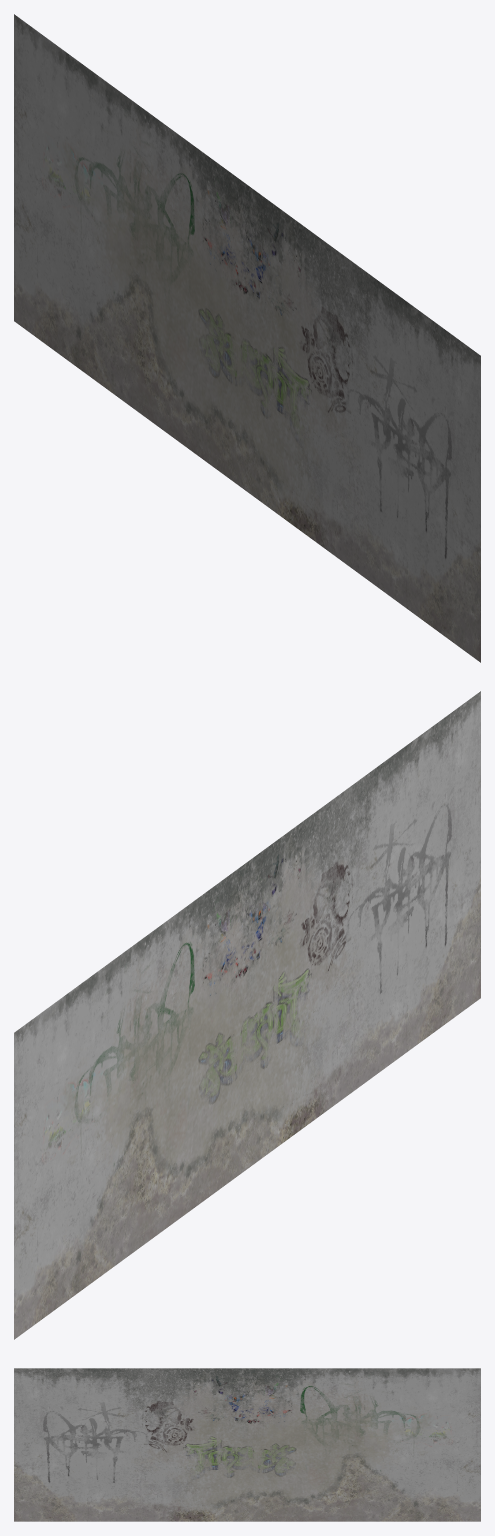
Rendered from worn_concrete_wall.glb.
3 views of the same model, one above another, from view 1: azimuth 30°, elevation 25°; view 2: azimuth 150°, elevation 25°; view 3: azimuth 270°, elevation 25° (orthographic). The views are drawn at different scales.
Visible parts, largest first — view 1: SM_back_wall.001; view 2: SM_back_wall.001; view 3: SM_back_wall.001.
Boxes of the visible parts, <box> form: SM_back_wall.001: <box>14,14,480,662</box>; SM_back_wall.001: <box>14,691,480,1339</box>; SM_back_wall.001: <box>14,1368,480,1521</box>.
Size of the model in its own units: 0 by 405 by 1115.
1 material, 1 textured.
